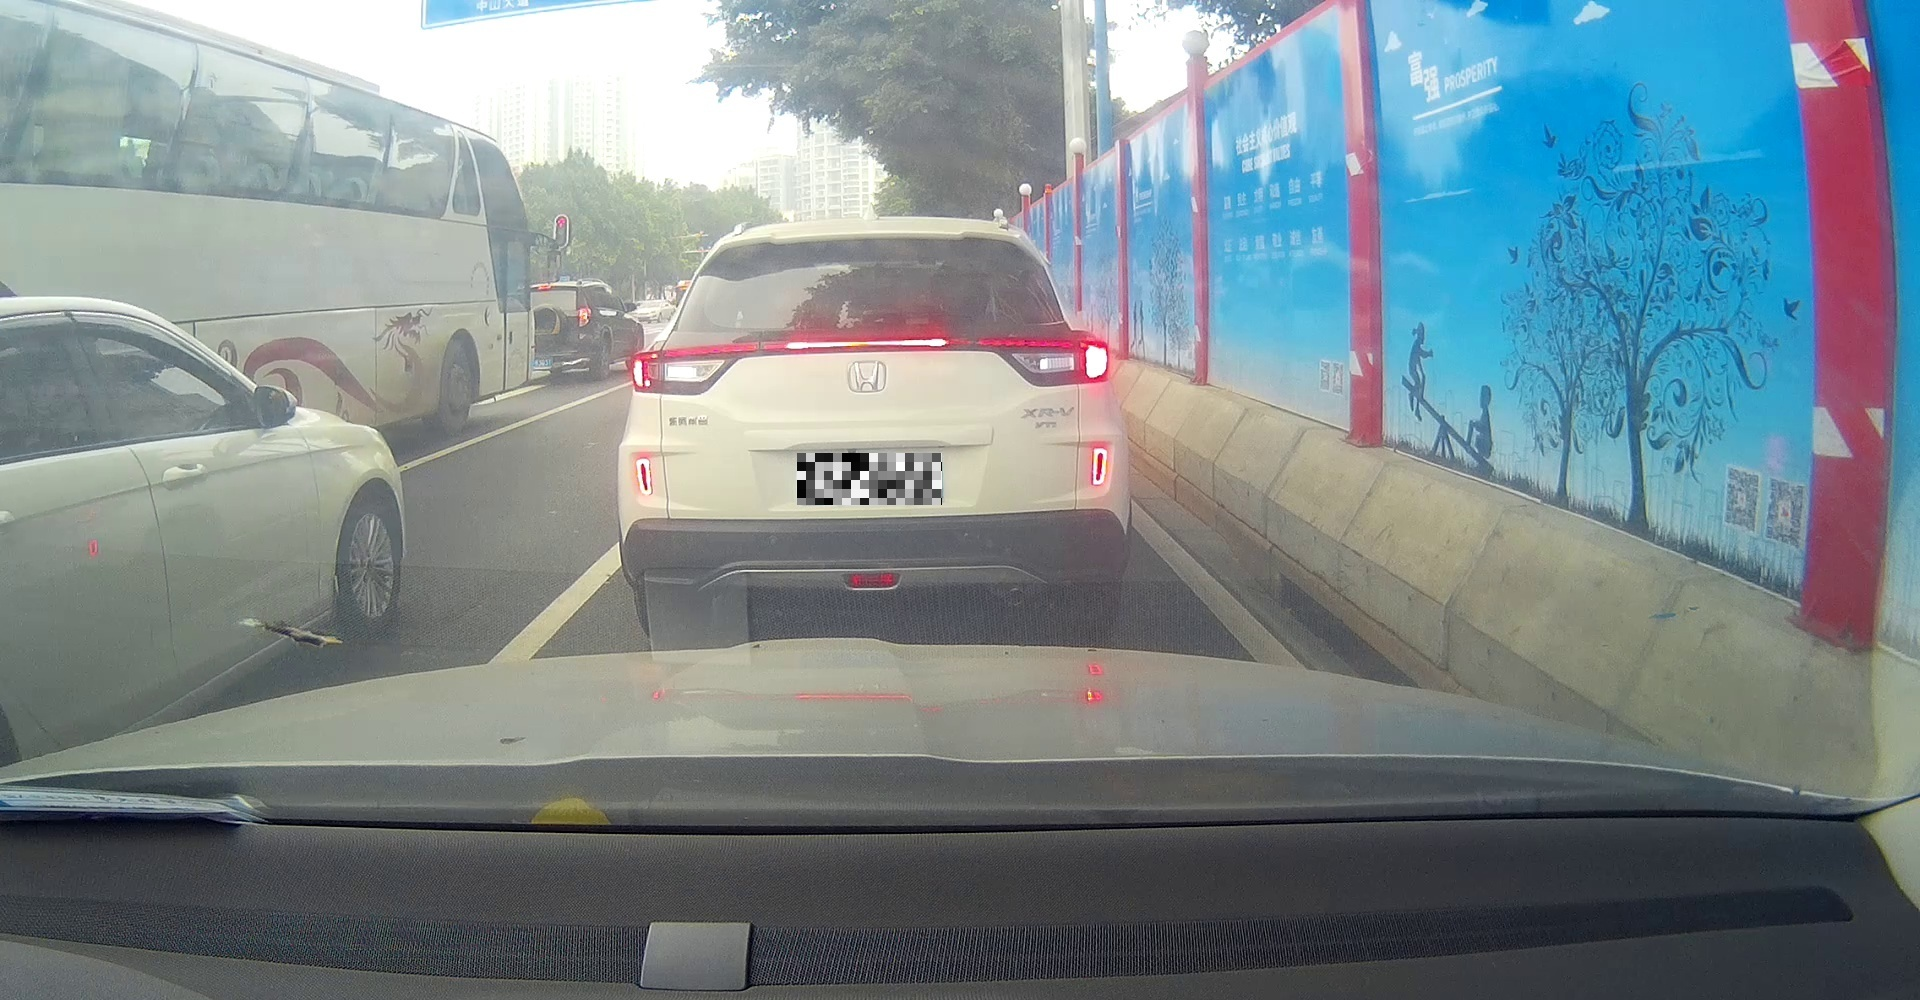L_light: (630, 341, 757, 395)
R_light: (977, 338, 1110, 387)
T_light: (785, 336, 949, 352)
day-brake: (617, 217, 1131, 643)
plate_1: (797, 453, 942, 505)
